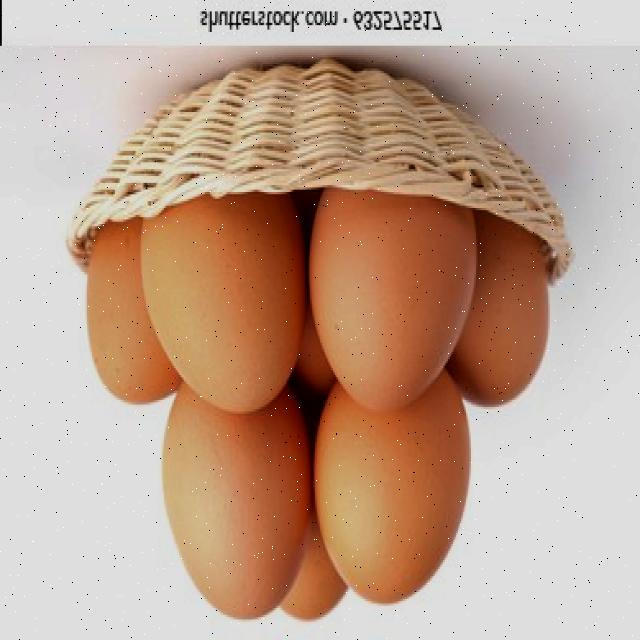Brown Egg: (307, 194, 478, 413), (138, 194, 304, 419), (314, 397, 472, 611), (158, 408, 310, 627), (454, 228, 556, 414), (81, 218, 171, 410)
